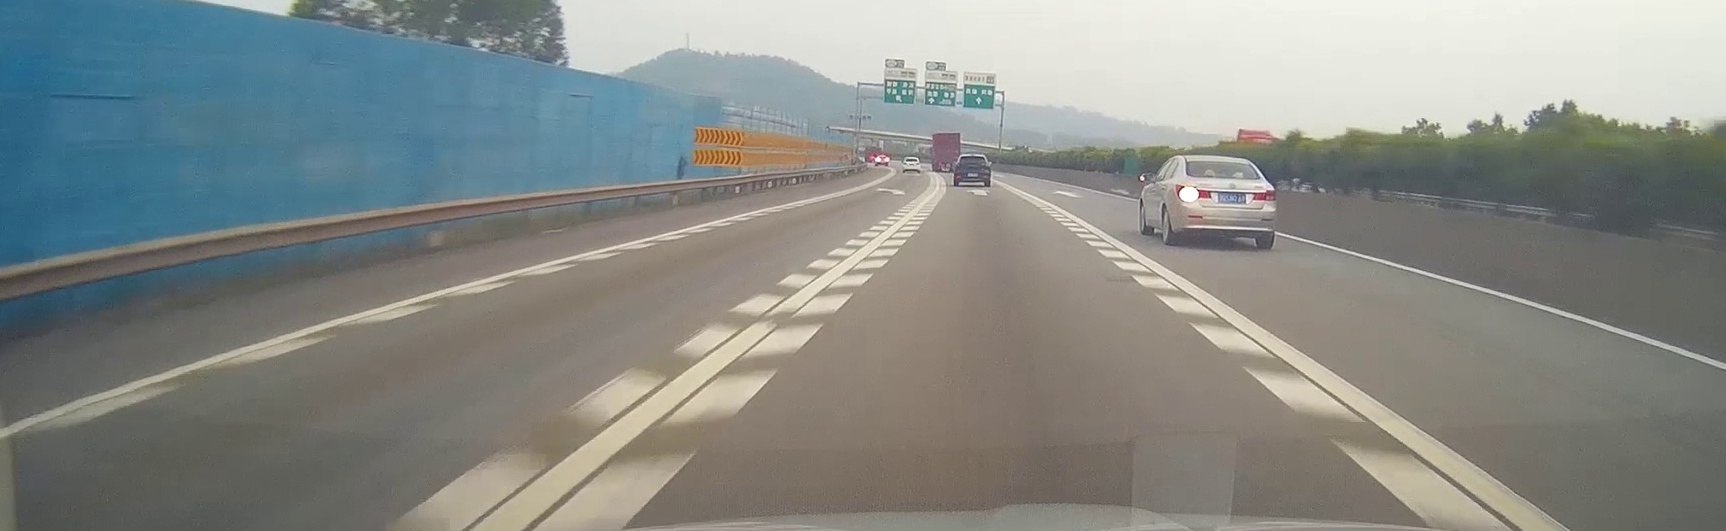L_light: (1175, 184, 1212, 199)
R_light: (1252, 189, 1277, 201)
T_light: (1216, 175, 1236, 178)
day-left: (1172, 155, 1278, 249)
